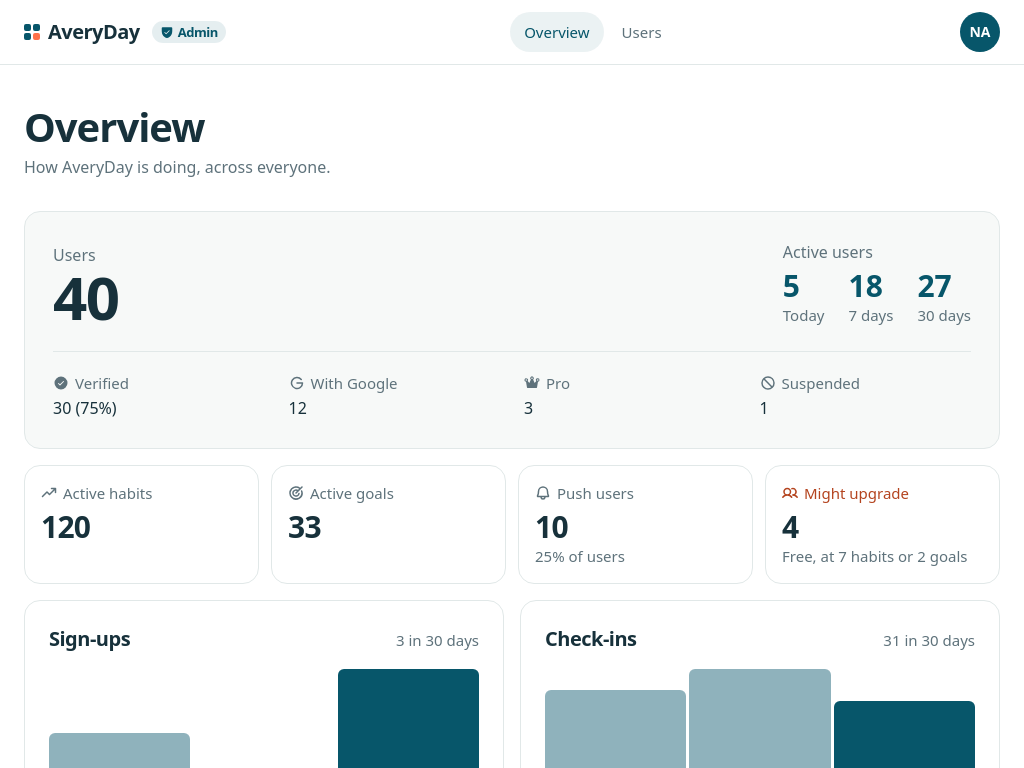
Test: the admin app is its own › has an account menu with only change password and sign out
The image size is (1024, 768).
Click the button with aria-label "Account,".
click(980, 32)  # box x1=960 y1=12 x2=1000 y2=52
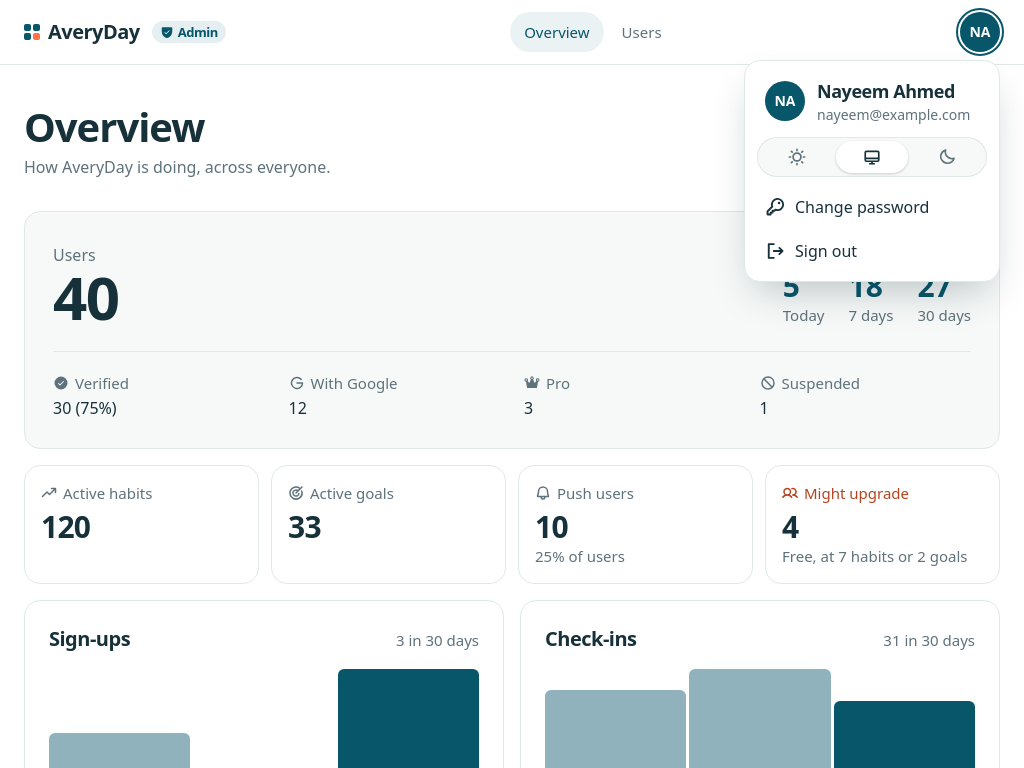
Now the button "Sign out" is shown, box x1=753 y1=229 x2=991 y2=273
